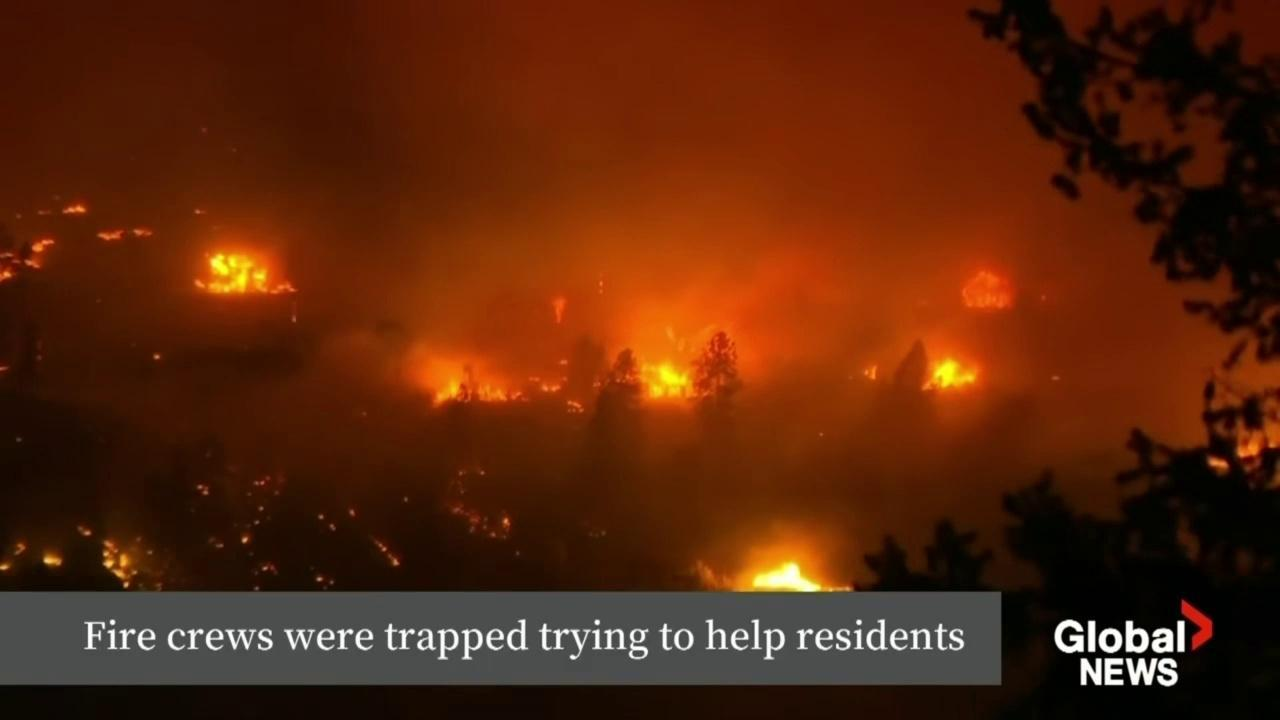fire: (187, 247, 302, 298), (427, 359, 531, 413), (101, 535, 179, 589), (739, 556, 838, 592), (0, 230, 55, 285), (1206, 432, 1280, 472), (634, 360, 706, 399), (961, 263, 1019, 310), (919, 353, 983, 394), (93, 225, 156, 245), (548, 294, 570, 326), (41, 550, 66, 569), (862, 361, 882, 382), (565, 399, 589, 416), (62, 202, 89, 215), (539, 383, 567, 391), (0, 560, 11, 571)
smoke: (0, 0, 1280, 593)
